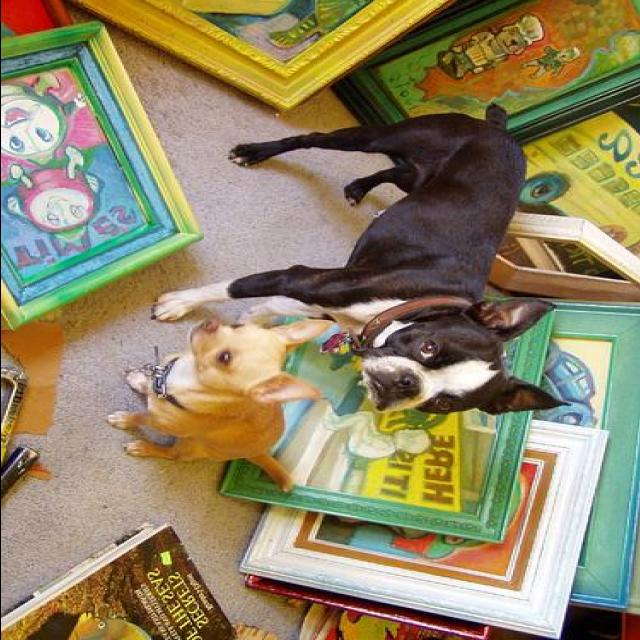chihuahua: (152, 100, 568, 415), (109, 316, 333, 494)
